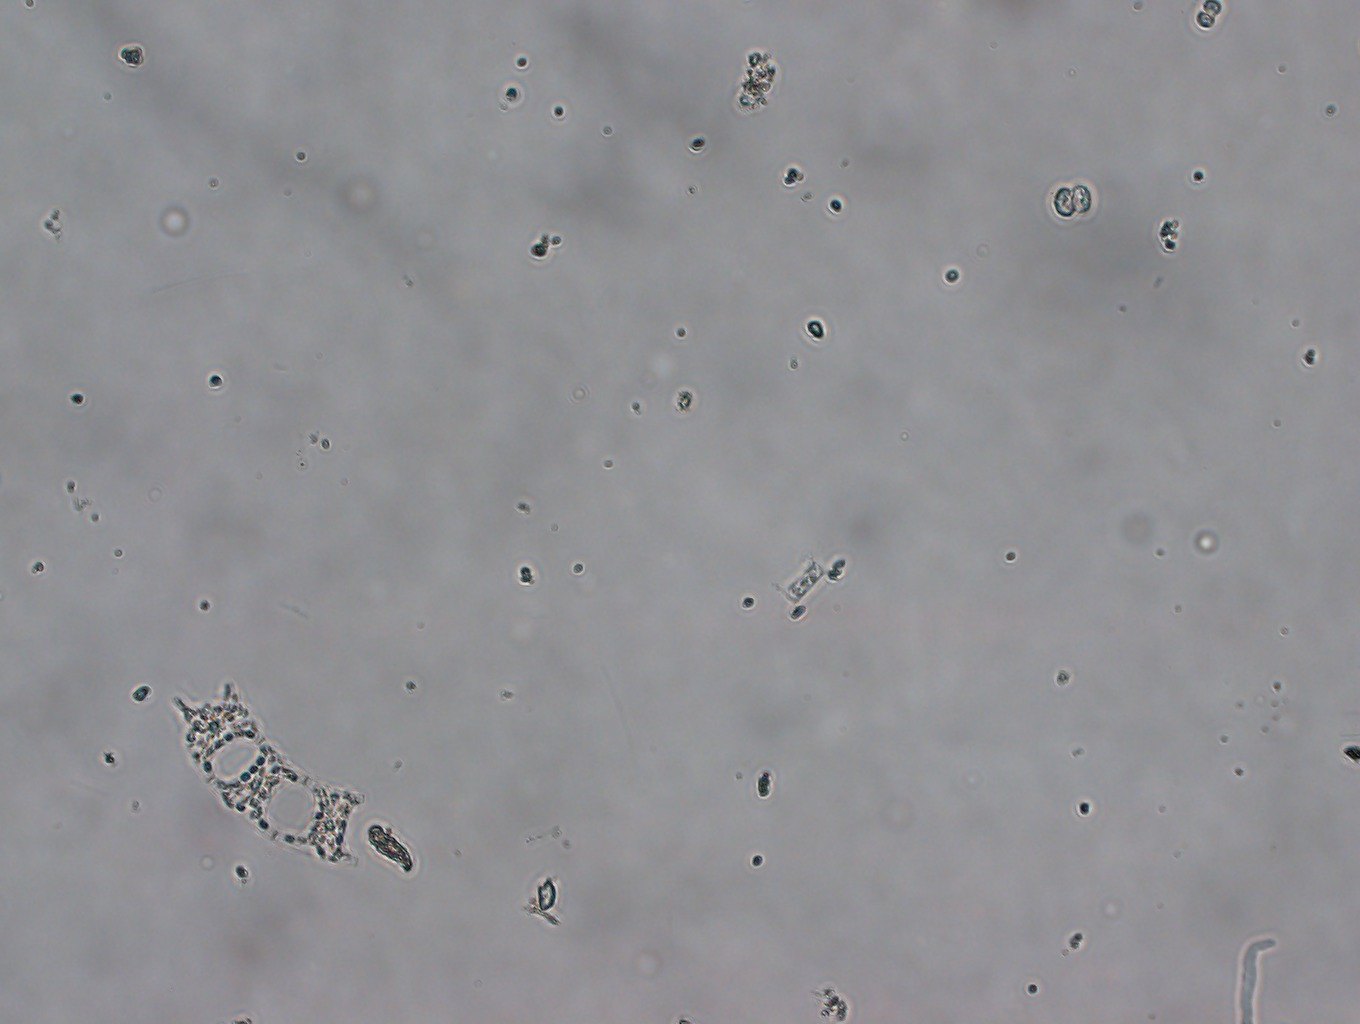eucampia: (164, 674, 367, 876)
